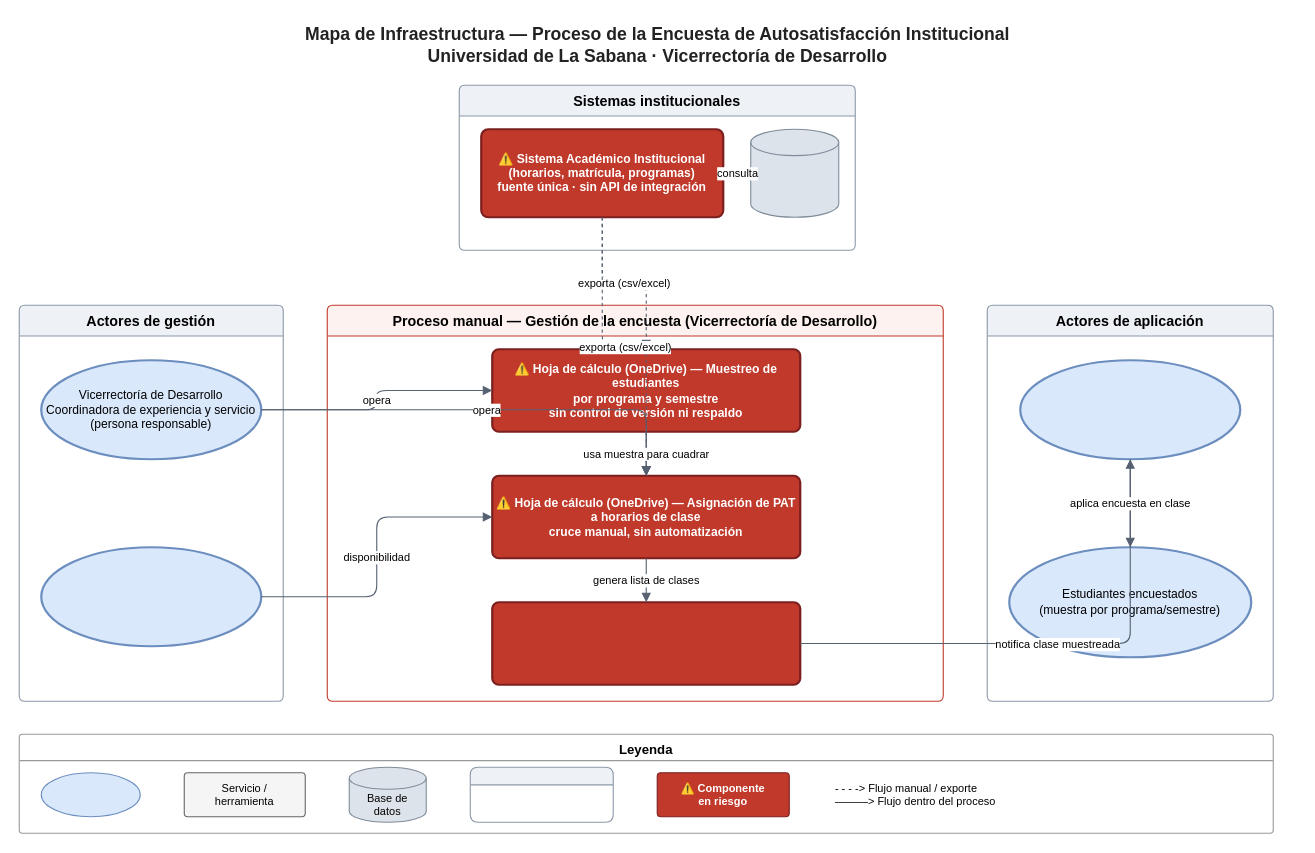
This 1315x853 diagram has some shape labels left out. The centre of each missing label's shape, as x and y in pixels:
"Actor" belongs at (90,794).
"Base de datos académica" belongs at (794,172).
"Estudiantes PAT" belongs at (151,596).
"Profesores" belongs at (1130,409).
"Zona / agrupación" belongs at (541,794).
"⚠️ Correo institucional — Notificación a profesores envío manual, uno a uno" belongs at (646,643).
